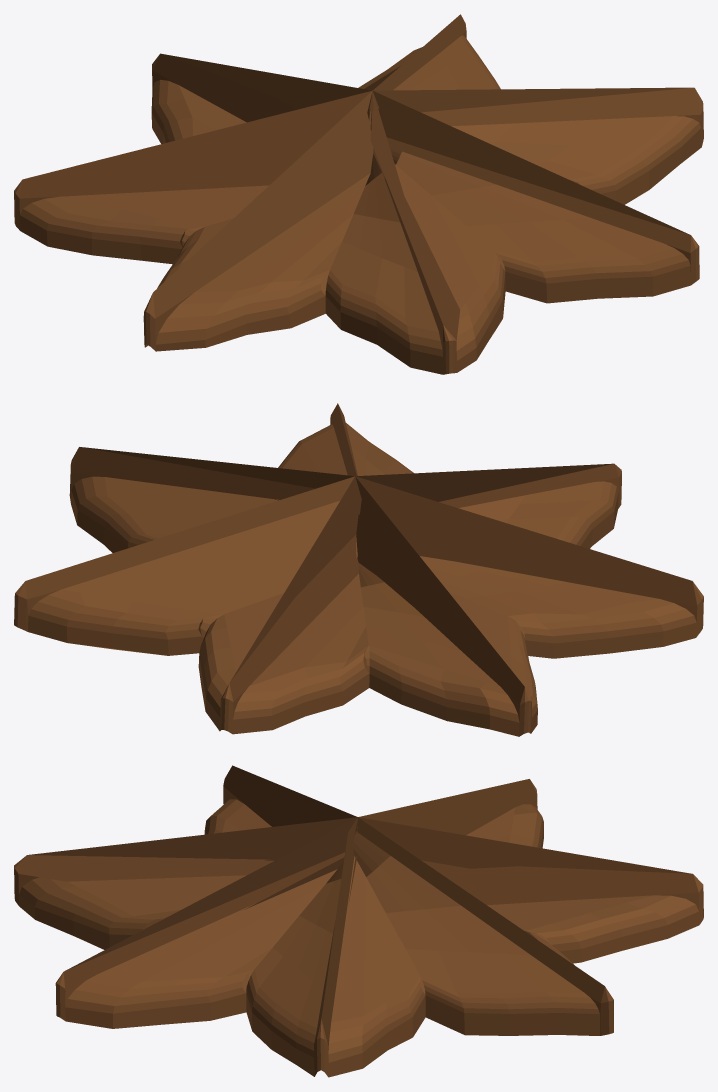
The model's file is momiji-draco.glb.
The picture shows the model from 3 angles, top to bottom: view 1: azimuth 30°, elevation 25°; view 2: azimuth 150°, elevation 25°; view 3: azimuth 270°, elevation 25°; orthographic projection. The views are drawn at different scales.
Visible parts, largest first — view 1: Circle.001; view 2: Circle.001; view 3: Circle.001.
Part boxes in pixels (<box>): Circle.001: <box>14,14,703,374</box>; Circle.001: <box>14,403,703,736</box>; Circle.001: <box>14,765,703,1077</box>.
Bounding box in the file's own units: 1.72 × 0.3902 × 1.73.
